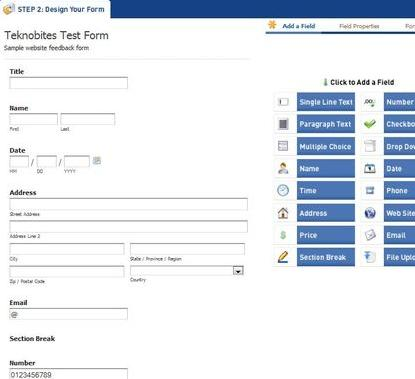button: (295, 91, 357, 112), (294, 113, 356, 134), (293, 135, 355, 156), (294, 157, 356, 178), (294, 180, 356, 201), (293, 202, 355, 223), (293, 224, 355, 245), (293, 246, 355, 267)
field: (7, 218, 249, 235), (7, 197, 250, 212), (6, 75, 131, 92), (8, 306, 127, 323), (7, 241, 125, 256), (129, 242, 246, 256), (8, 366, 130, 379), (7, 265, 125, 278), (5, 111, 59, 127), (59, 112, 115, 126), (62, 154, 92, 168), (35, 154, 59, 169), (7, 154, 30, 169)
